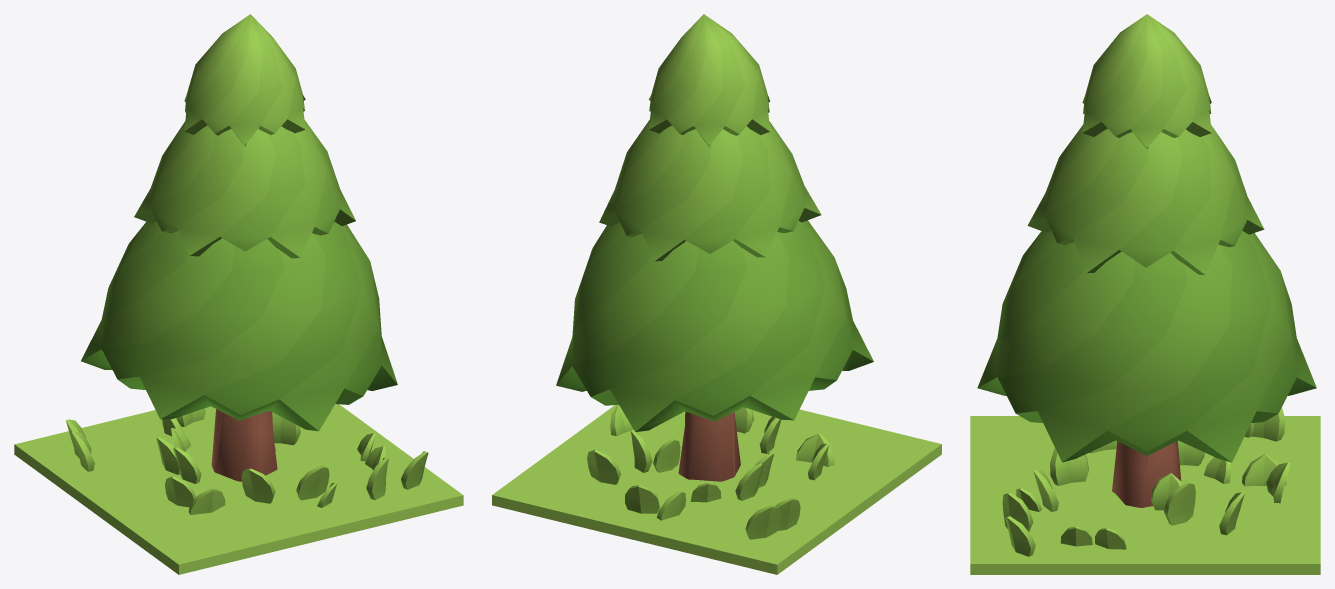
Rendered from cedar.glb.
3 views of the same model, side by side, from view 1: azimuth 30°, elevation 25°; view 2: azimuth 150°, elevation 25°; view 3: azimuth 270°, elevation 25° (orthographic). The views are drawn at different scales.
Visible parts, largest first — view 1: Cedar; view 2: Cedar; view 3: Cedar.
Part boxes in pixels (x1,y1,x2,y2): Cedar: (14,14,463,574); Cedar: (492,14,941,574); Cedar: (970,14,1320,574).
Size of the model in its own units: 0.29 by 0.4767 by 0.29.
1 material, 1 textured.
